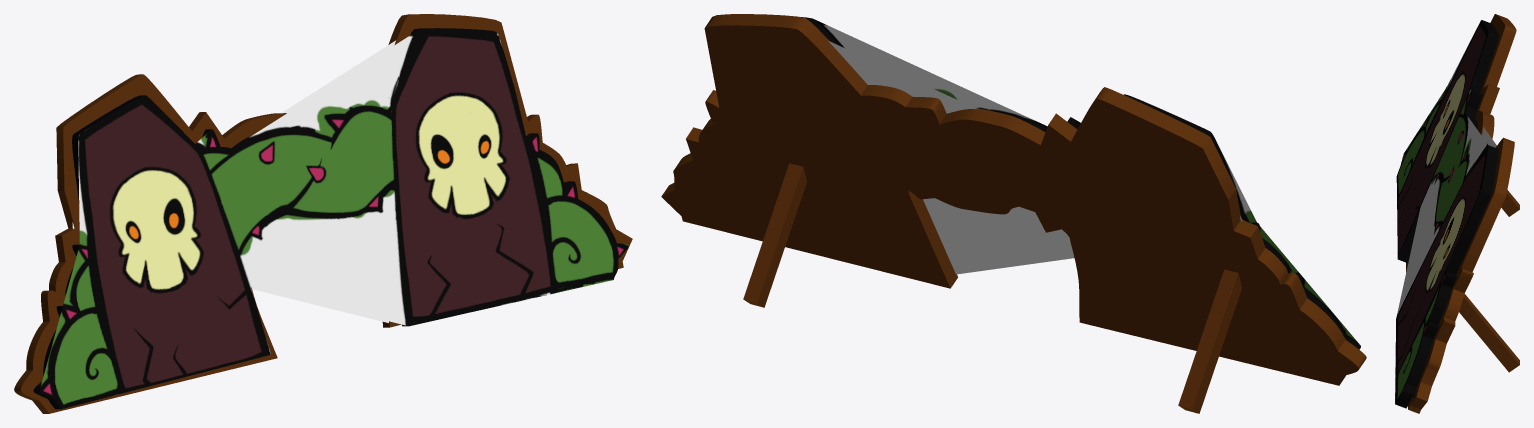
File: BaseDragon.FBX
The picture shows the model from 3 angles, left to right: view 1: azimuth 30°, elevation 25°; view 2: azimuth 150°, elevation 25°; view 3: azimuth 270°, elevation 25°; orthographic projection. The views are drawn at different scales.
Visible parts, largest first — view 1: Line002, Line001; view 2: Line001, Line002, cartoon001, cartoon002; view 3: Line002, Line001, cartoon002, cartoon001.
Boxes of the visible parts, left/top/right/bottom form: Line002: left=33, top=28, right=628, bottom=409; Line001: left=14, top=14, right=632, bottom=413; Line001: left=661, top=14, right=1366, bottom=385; Line002: left=801, top=17, right=1360, bottom=349; cartoon001: left=1178, top=269, right=1241, bottom=413; cartoon002: left=743, top=163, right=806, bottom=307; Line002: left=1395, top=20, right=1498, bottom=408; Line001: left=1406, top=14, right=1516, bottom=413; cartoon002: left=1459, top=294, right=1519, bottom=372; cartoon001: left=1501, top=190, right=1519, bottom=216.
Bounding box in the file's own units: 217 × 89.67 × 46.02.
2 materials, 1 textured.
